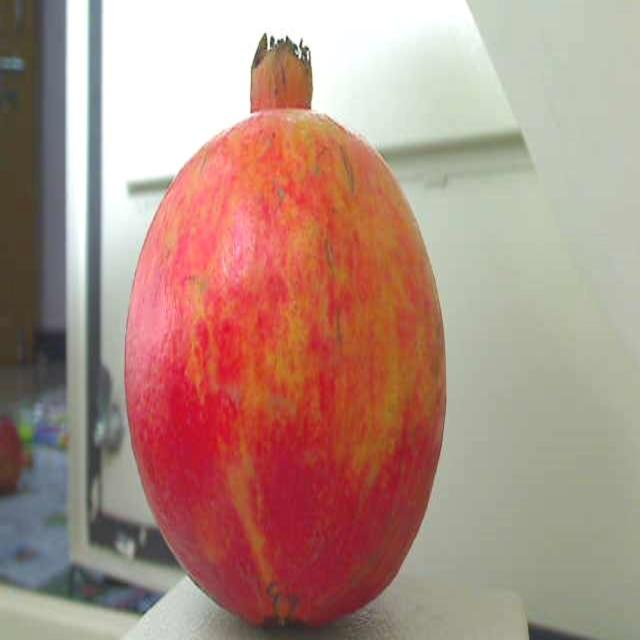pomegranate: (112, 24, 456, 640)
